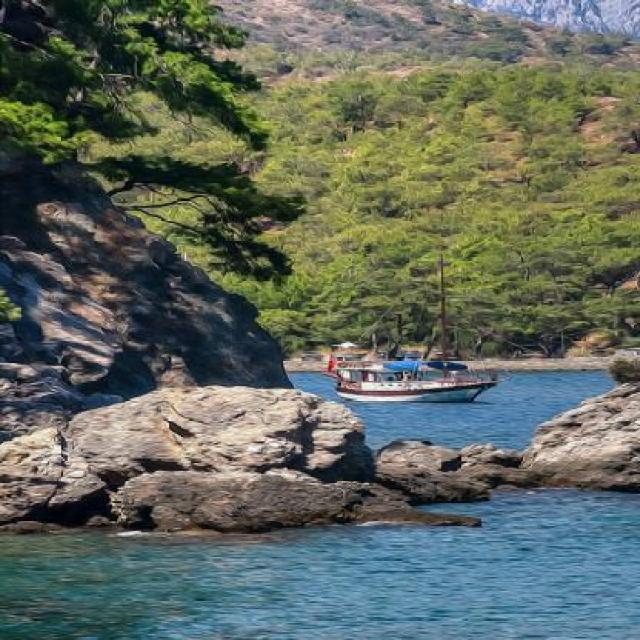ship: (320, 346, 506, 405)
